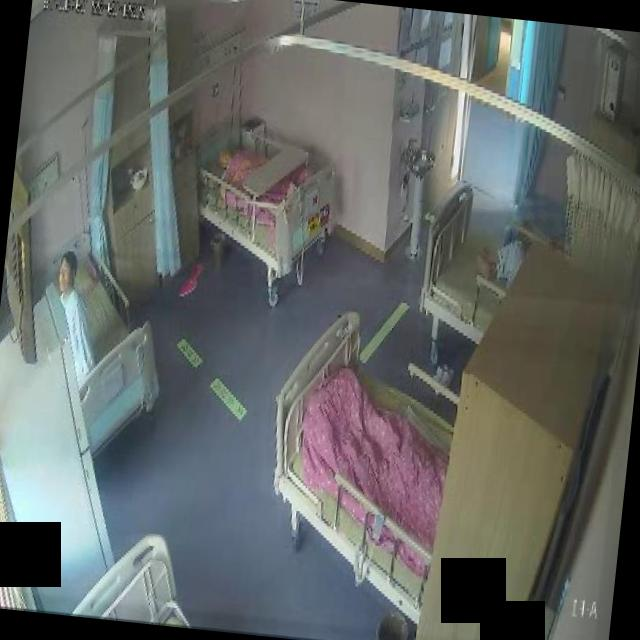bed: (261, 312, 465, 620), (36, 232, 172, 464), (186, 118, 342, 280), (414, 178, 526, 344)
patient: (45, 252, 109, 387)
sit: (44, 252, 108, 386)
